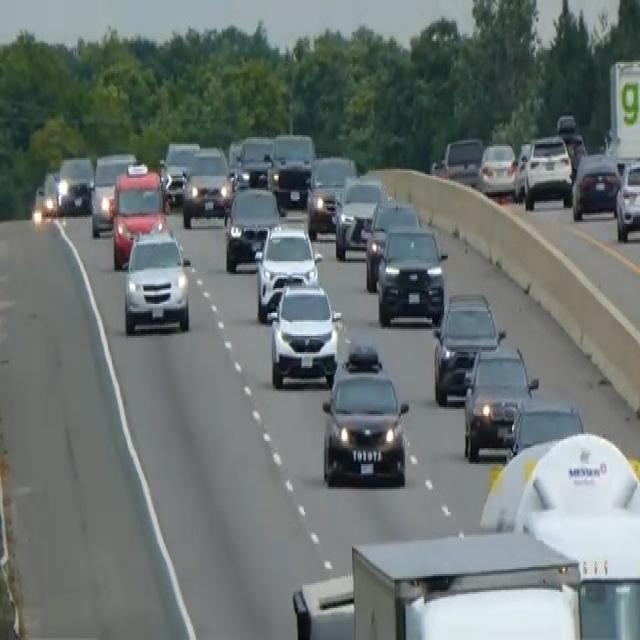car: (320, 345, 410, 487), (462, 343, 538, 461), (432, 288, 504, 405), (269, 276, 342, 390), (122, 226, 191, 336), (376, 224, 447, 327), (253, 220, 322, 322), (110, 162, 168, 268), (364, 196, 420, 292), (504, 397, 584, 462), (223, 183, 280, 272), (334, 172, 387, 262), (181, 144, 233, 228), (305, 153, 356, 238), (89, 150, 136, 236), (522, 132, 573, 210), (267, 130, 316, 210), (571, 150, 620, 220), (159, 138, 199, 204), (433, 135, 483, 187), (477, 139, 517, 199), (56, 153, 93, 215), (234, 134, 273, 188), (615, 158, 639, 242), (33, 169, 59, 222)
lorry: (605, 53, 639, 171)
